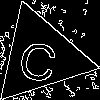C: (15, 31, 62, 84)
